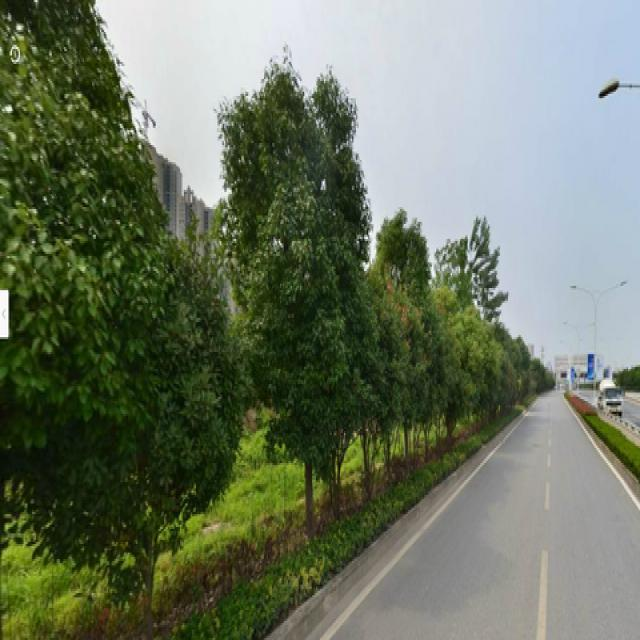cinn: (226, 77, 354, 520)
